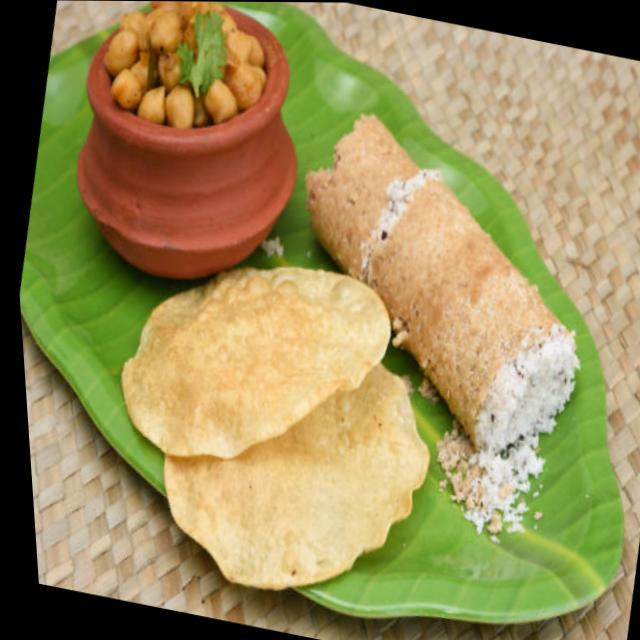PAPADAM: (83, 230, 448, 589)
PUTTU: (294, 104, 597, 544)
SUNDAL: (86, 1, 289, 156)
